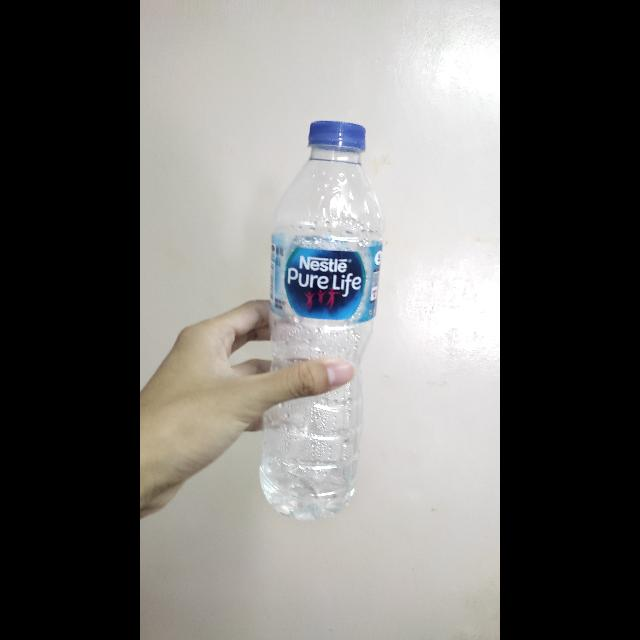plastic_bottle: (259, 104, 389, 536)
plastic_bottle_cap: (308, 120, 369, 158)
